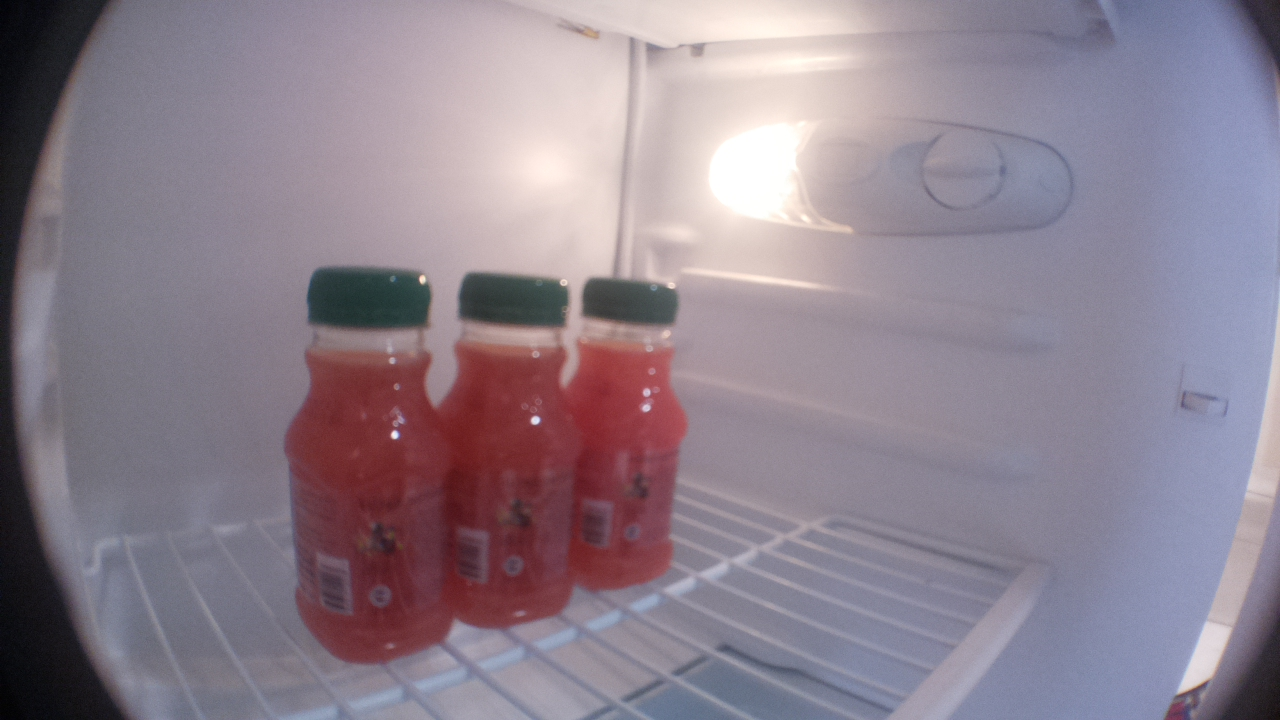juice: (280, 262, 457, 670), (446, 271, 578, 632), (569, 275, 690, 595)
